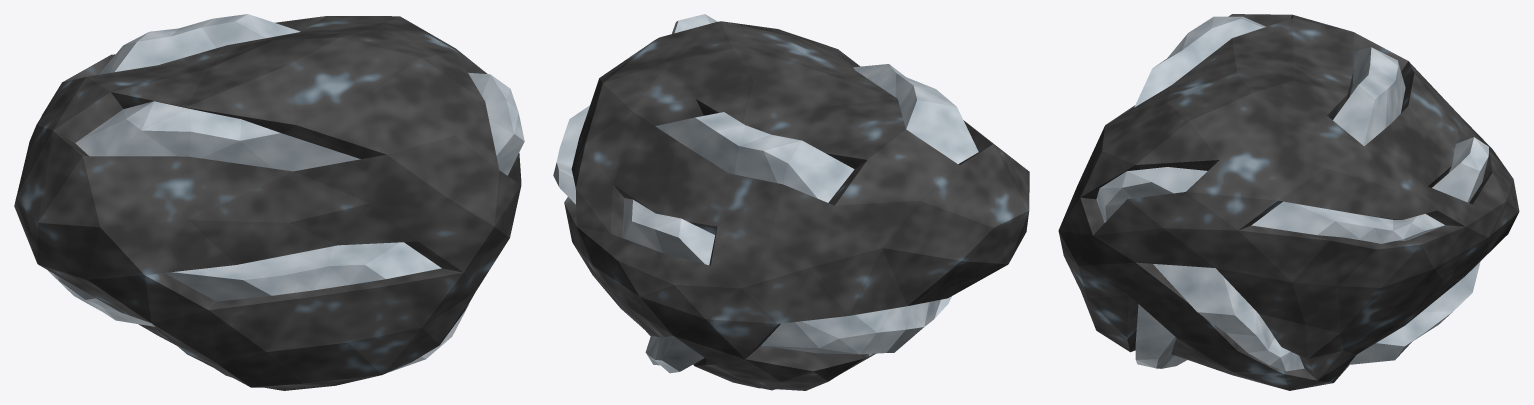
The model's file is Titanium_Ore.fbx.
The picture shows the model from 3 angles, left to right: view 1: azimuth 30°, elevation 25°; view 2: azimuth 150°, elevation 25°; view 3: azimuth 270°, elevation 25°; orthographic projection. The views are drawn at different scales.
Visible parts, largest first — view 1: SM_Titanium_ore; view 2: SM_Titanium_ore; view 3: SM_Titanium_ore.
Part boxes in pixels (<box>): SM_Titanium_ore: <box>14,14,524,390</box>; SM_Titanium_ore: <box>553,14,1029,390</box>; SM_Titanium_ore: <box>1058,14,1519,390</box>.
Size of the model in its own units: 45.76 by 31.4 by 43.88.
Materials: 2 (2 with a texture image).
